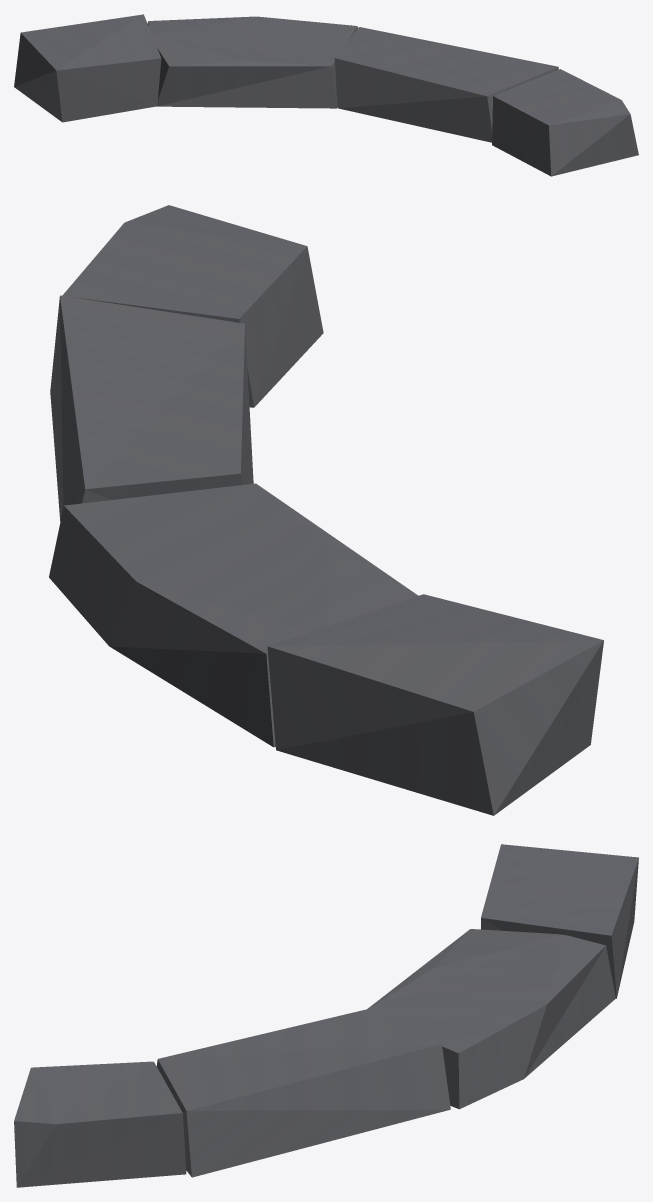
The model's file is Road_1C_LOD1.fbx.
3 views of the same model, one above another, from view 1: azimuth 30°, elevation 25°; view 2: azimuth 150°, elevation 25°; view 3: azimuth 270°, elevation 25° (orthographic). The views are drawn at different scales.
Visible parts, largest first — view 1: polySurface10318; view 2: polySurface10318; view 3: polySurface10318.
Part boxes in pixels (bbox=[...]): polySurface10318: bbox=[14, 14, 638, 176]; polySurface10318: bbox=[49, 205, 603, 815]; polySurface10318: bbox=[14, 844, 638, 1187].
Size of the model in its own units: 235 by 30.65 by 230.
